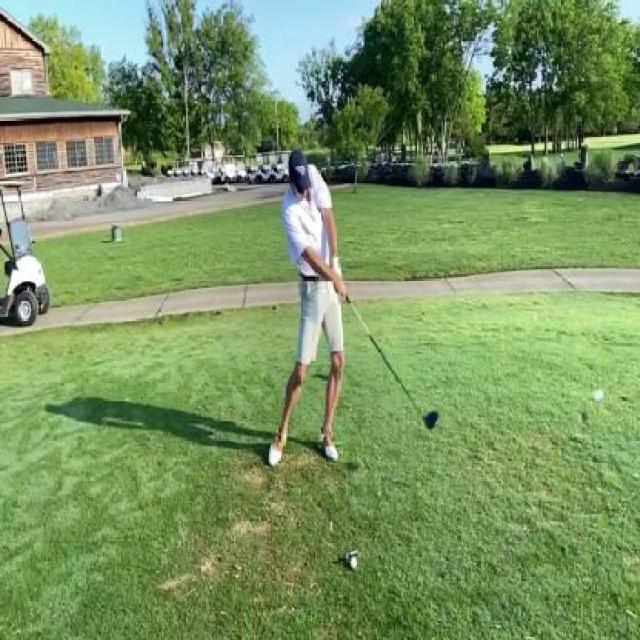club head: (414, 399, 441, 433)
